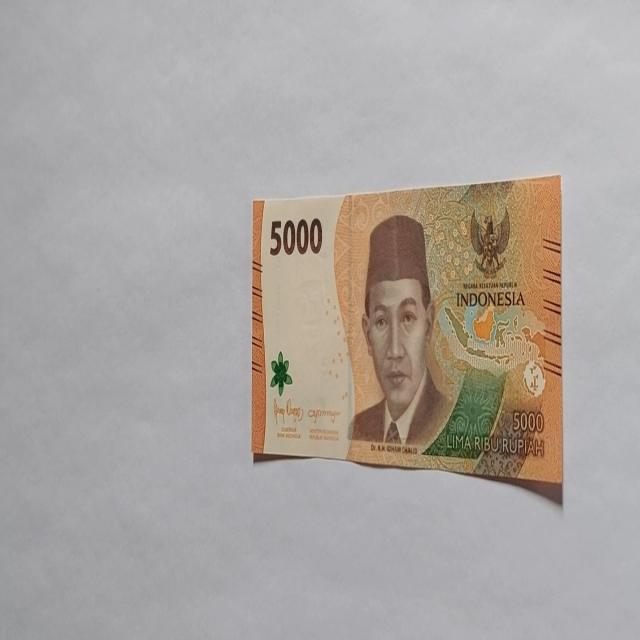lima ribu rupiah: (250, 176, 564, 507), (346, 212, 454, 450)
